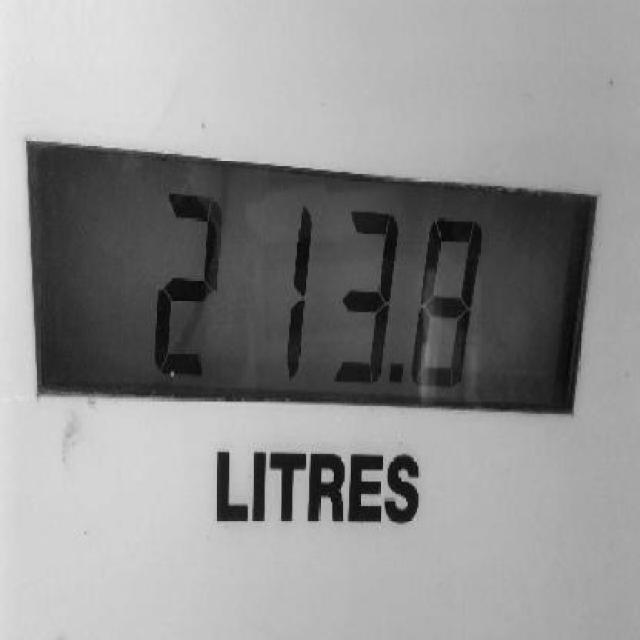.: (383, 360, 410, 384)
1: (287, 204, 313, 380)
2: (156, 190, 222, 376)
3: (332, 204, 405, 392)
8: (412, 216, 484, 388)
